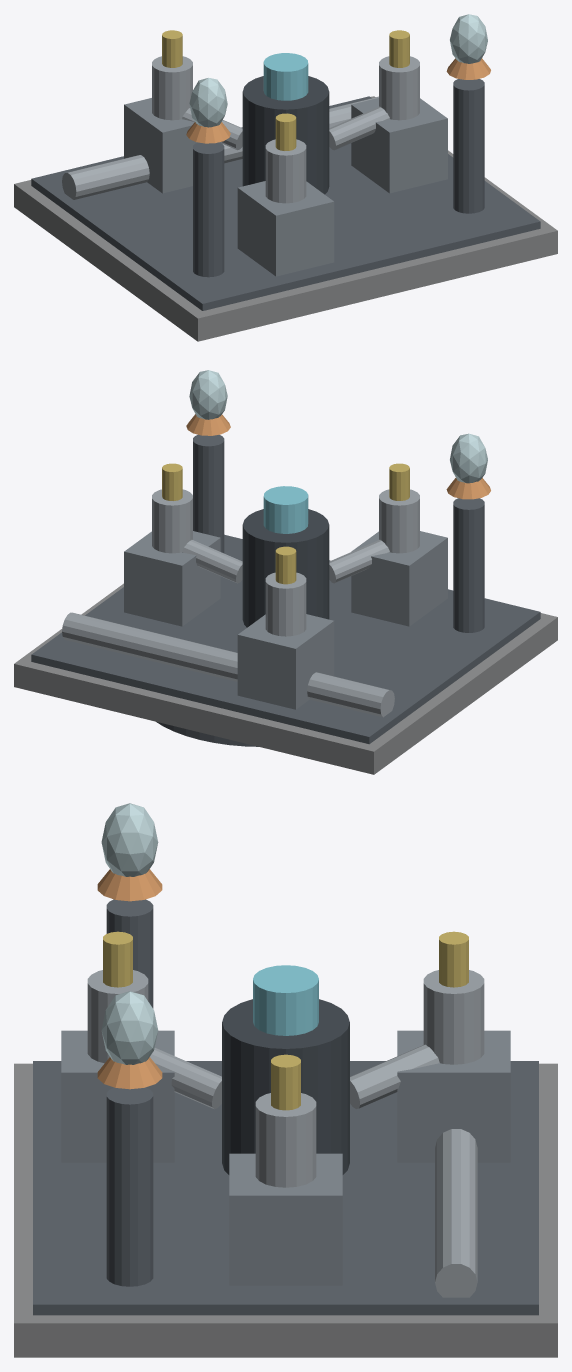
Rendered from human_gas_extractor.glb.
3 renders of one model, top to bottom at view 1: azimuth 30°, elevation 25°; view 2: azimuth 150°, elevation 25°; view 3: azimuth 270°, elevation 25°, orthographic. The views are drawn at different scales.
Visible parts, largest first — view 1: foundation_top, foundation, pump_housing_1, pump_housing_0, gas_vent, pump_housing_2, vent_stack_0, vent_stack_1, main_pipeline, pump_head_1, pump_head_0, pump_head_2 (+10 smaller); view 2: foundation_top, foundation, main_pipeline, pump_housing_2, pump_housing_1, pump_housing_0, gas_vent, vent_stack_0, vent_stack_1, pump_head_2, pump_head_0, pump_head_1 (+11 smaller); view 3: foundation_top, foundation, pump_housing_0, gas_vent, pump_housing_2, vent_stack_1, pump_housing_1, main_pipeline, pump_head_0, pump_head_2, gas_column, vapor_puff_0 (+10 smaller).
Part boxes in pixels (x1,y1,x2,y2): foundation_top: (31, 96, 540, 310); foundation: (14, 96, 557, 341); pump_housing_1: (237, 181, 334, 276); pump_housing_0: (351, 98, 447, 193); gas_vent: (242, 76, 329, 194); pump_housing_2: (124, 98, 197, 193); vent_stack_0: (193, 142, 224, 277); vent_stack_1: (453, 79, 484, 213); main_pipeline: (62, 96, 378, 199); pump_head_1: (265, 139, 306, 203); pump_head_0: (379, 56, 419, 120); pump_head_2: (152, 56, 192, 120); foundation_top: (31, 534, 540, 744); foundation: (14, 583, 557, 774); main_pipeline: (62, 612, 394, 717); pump_housing_2: (237, 614, 334, 709); pump_housing_1: (351, 531, 447, 626); pump_housing_0: (124, 531, 220, 626); gas_vent: (242, 509, 329, 627); vent_stack_0: (453, 498, 484, 632); vent_stack_1: (193, 434, 224, 553); pump_head_2: (265, 572, 306, 636); pump_head_0: (152, 489, 192, 553); pump_head_1: (379, 489, 419, 553); foundation_top: (33, 1061, 538, 1315); foundation: (14, 1063, 557, 1357); pump_housing_0: (229, 1153, 342, 1285); gas_vent: (222, 999, 349, 1174); pump_housing_2: (397, 1030, 510, 1162); vent_stack_1: (106, 1087, 153, 1286); pump_housing_1: (61, 1030, 174, 1162); main_pipeline: (435, 1129, 477, 1297); pump_head_0: (255, 1093, 316, 1187); pump_head_2: (423, 970, 484, 1064); gas_column: (253, 965, 318, 1035); vapor_puff_0: (101, 803, 158, 876).
Bounding box in the file's own units: 2.6 × 1.63 × 2.3.
